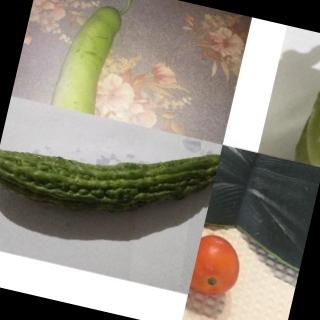Tomat: (187, 229, 247, 314)
